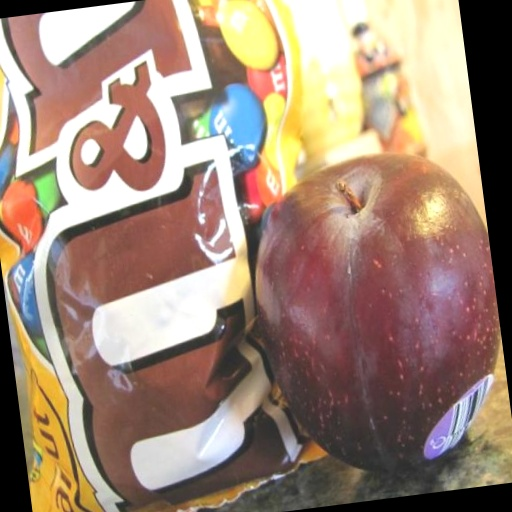fruit: (256, 154, 500, 469)
